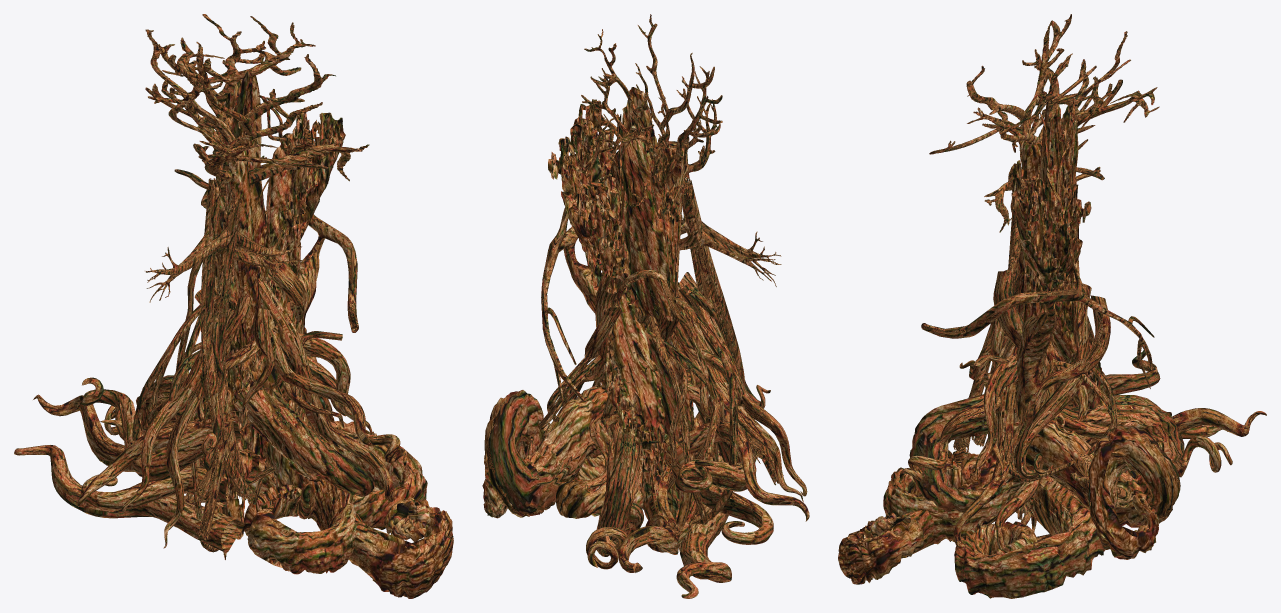
File: worldtreethreetrunk.glb
3 renders of one model, left to right at view 1: azimuth 30°, elevation 25°; view 2: azimuth 150°, elevation 25°; view 3: azimuth 270°, elevation 25°, orthographic. The views are drawn at different scales.
Parts seen in each view (by area): view 1: plant.001; view 2: plant.001; view 3: plant.001.
Part boxes in pixels (x1=…): plant.001: x1=14, y1=14, x2=453, y2=598; plant.001: x1=482, y1=14, x2=809, y2=598; plant.001: x1=838, y1=14, x2=1266, y2=598.
Size of the model in its own units: 1.09 by 1.67 by 1.28.
2 materials, 2 textured.
